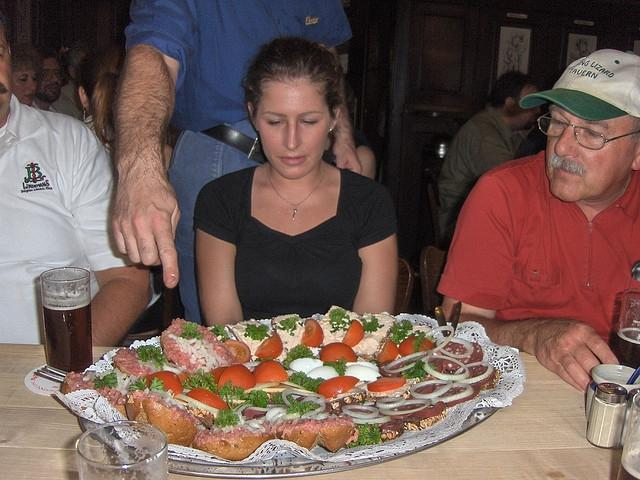onion: (423, 355, 470, 381), (430, 382, 474, 406), (384, 352, 432, 374), (174, 393, 220, 414), (378, 398, 432, 415), (410, 379, 453, 400), (453, 362, 494, 384), (436, 336, 474, 359), (424, 325, 454, 353), (282, 389, 325, 408), (342, 404, 379, 418), (376, 396, 406, 409), (352, 416, 391, 426), (268, 412, 286, 428), (266, 408, 286, 421), (301, 411, 318, 419)
tomato: (186, 388, 230, 411), (218, 364, 256, 390), (318, 376, 360, 398), (145, 371, 183, 395), (398, 336, 436, 358), (253, 360, 289, 383), (254, 331, 283, 359), (320, 342, 357, 363), (300, 318, 324, 348), (342, 319, 365, 347), (367, 376, 406, 392), (224, 340, 250, 364), (377, 340, 399, 364)
